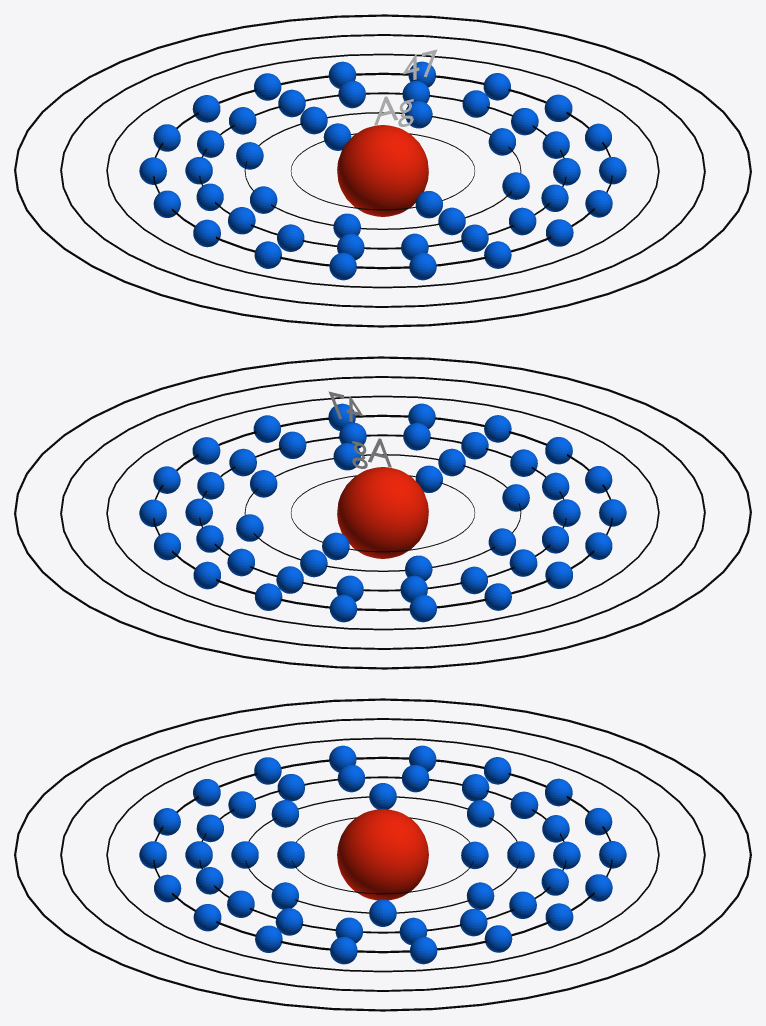
3 views of the same model, one above another, from view 1: azimuth 30°, elevation 25°; view 2: azimuth 150°, elevation 25°; view 3: azimuth 270°, elevation 25° (orthographic).
Visible parts, largest first — view 1: Ag3, Ag4, Proton, n7, Ag2, n6, n5, n4, Ag1, n3, n2; view 2: Ag3, Ag4, Proton, n7, Ag2, n6, n5, n4, Ag1, n3, n2; view 3: Ag4, Ag3, Proton, Ag2, n7, n6, n5, n4, Ag1, n3, n2, n1.
Part boxes in pixels (x1,y1,x2,y2): Ag3: [185, 80, 580, 260]; Ag4: [139, 61, 626, 280]; Proton: [337, 125, 428, 216]; n7: [14, 14, 751, 327]; Ag2: [236, 101, 529, 238]; n6: [60, 34, 705, 307]; n5: [106, 53, 659, 288]; n4: [153, 72, 612, 269]; Ag1: [323, 123, 442, 218]; n3: [199, 92, 566, 249]; n2: [244, 112, 521, 229]; Ag3: [185, 422, 580, 602]; Ag4: [139, 403, 626, 622]; Proton: [337, 467, 428, 558]; n7: [14, 356, 751, 669]; Ag2: [236, 443, 529, 580]; n6: [60, 376, 705, 649]; n5: [106, 395, 659, 630]; n4: [153, 414, 612, 611]; Ag1: [322, 465, 442, 560]; n3: [199, 434, 566, 591]; n2: [244, 454, 521, 571]; Ag4: [139, 745, 626, 964]; Ag3: [185, 764, 580, 944]; Proton: [337, 809, 428, 900]; Ag2: [231, 783, 534, 926]; n7: [14, 698, 751, 1011]; n6: [60, 718, 705, 991]; n5: [106, 737, 659, 972]; n4: [153, 756, 612, 953]; Ag1: [277, 841, 488, 869]; n3: [199, 776, 566, 933]; n2: [245, 796, 520, 913]; n1: [292, 817, 473, 894].
Bounding box in the file's own units: 802 × 180 × 802.
